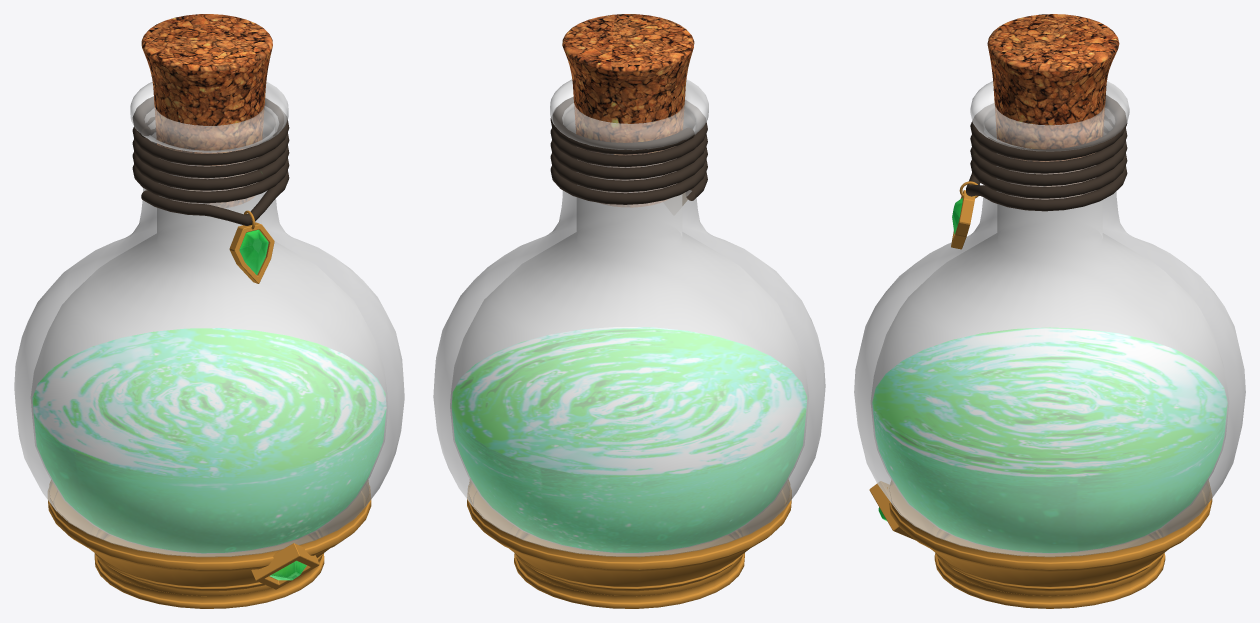
File: magic_potion.glb
3 renders of one model, left to right at view 1: azimuth 30°, elevation 25°; view 2: azimuth 150°, elevation 25°; view 3: azimuth 270°, elevation 25°, orthographic.
Visible parts, largest first — view 1: ShenMiYaoShui_001; view 2: ShenMiYaoShui_001; view 3: ShenMiYaoShui_001.
Part boxes in pixels (x1,y1,x2,y2): ShenMiYaoShui_001: [14, 14, 404, 608]; ShenMiYaoShui_001: [433, 14, 825, 608]; ShenMiYaoShui_001: [854, 14, 1245, 608].
Size of the model in its own units: 2.83 by 4.14 by 2.83.
2 materials, 2 textured.
